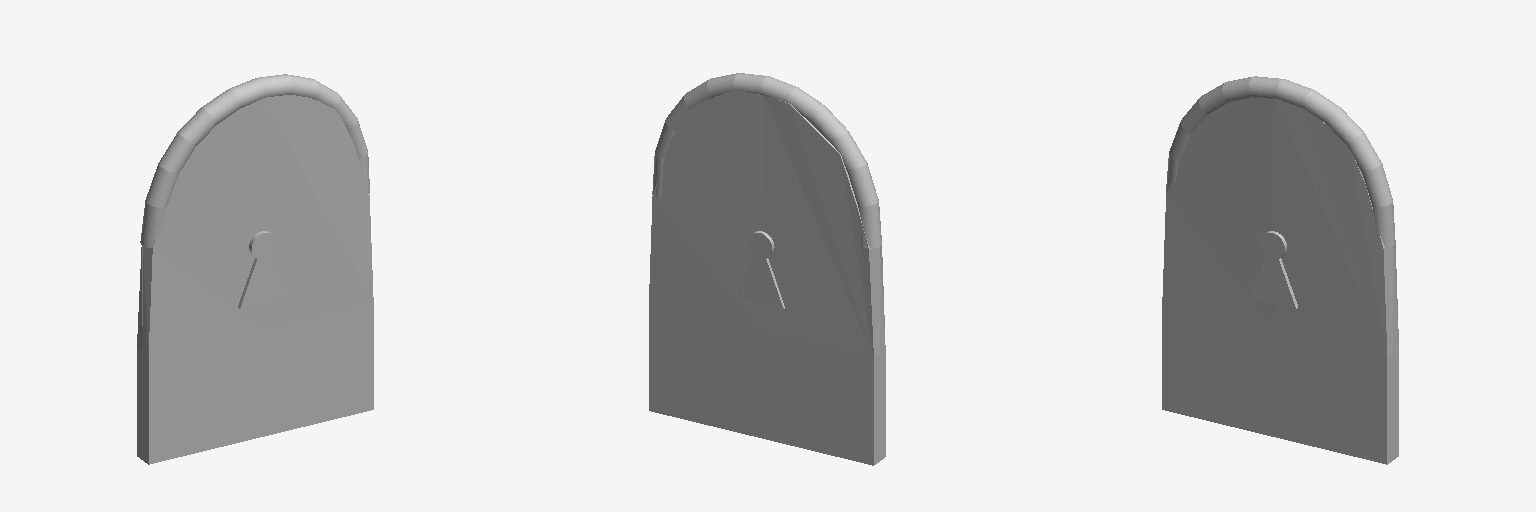
File: door.obj
The picture shows the model from 3 angles: view 1: azimuth 30°, elevation 25°; view 2: azimuth 150°, elevation 25°; view 3: azimuth 330°, elevation 25°; orthographic projection.
Parts seen in each view (by area): view 1: Cube_Cube.002, BezierCurve_Mesh, Plane, Cylinder; view 2: Cube_Cube.002, BezierCurve_Mesh, Plane, Cylinder; view 3: Cube_Cube.002, BezierCurve_Mesh, Plane, Cylinder.
Boxes of the visible parts, x1=… form: Cube_Cube.002: x1=137, y1=95, x2=373, y2=464; BezierCurve_Mesh: x1=140, y1=74, x2=369, y2=247; Plane: x1=238, y1=257, x2=286, y2=308; Cylinder: x1=249, y1=231, x2=276, y2=259; Cube_Cube.002: x1=649, y1=90, x2=885, y2=465; BezierCurve_Mesh: x1=652, y1=73, x2=881, y2=247; Plane: x1=736, y1=257, x2=784, y2=308; Cylinder: x1=747, y1=231, x2=774, y2=259; Cube_Cube.002: x1=1162, y1=98, x2=1398, y2=464; BezierCurve_Mesh: x1=1166, y1=76, x2=1395, y2=247; Plane: x1=1249, y1=257, x2=1297, y2=308; Cylinder: x1=1260, y1=231, x2=1286, y2=259.
Bounding box in the file's own units: 2.2 × 3.3 × 0.2677.